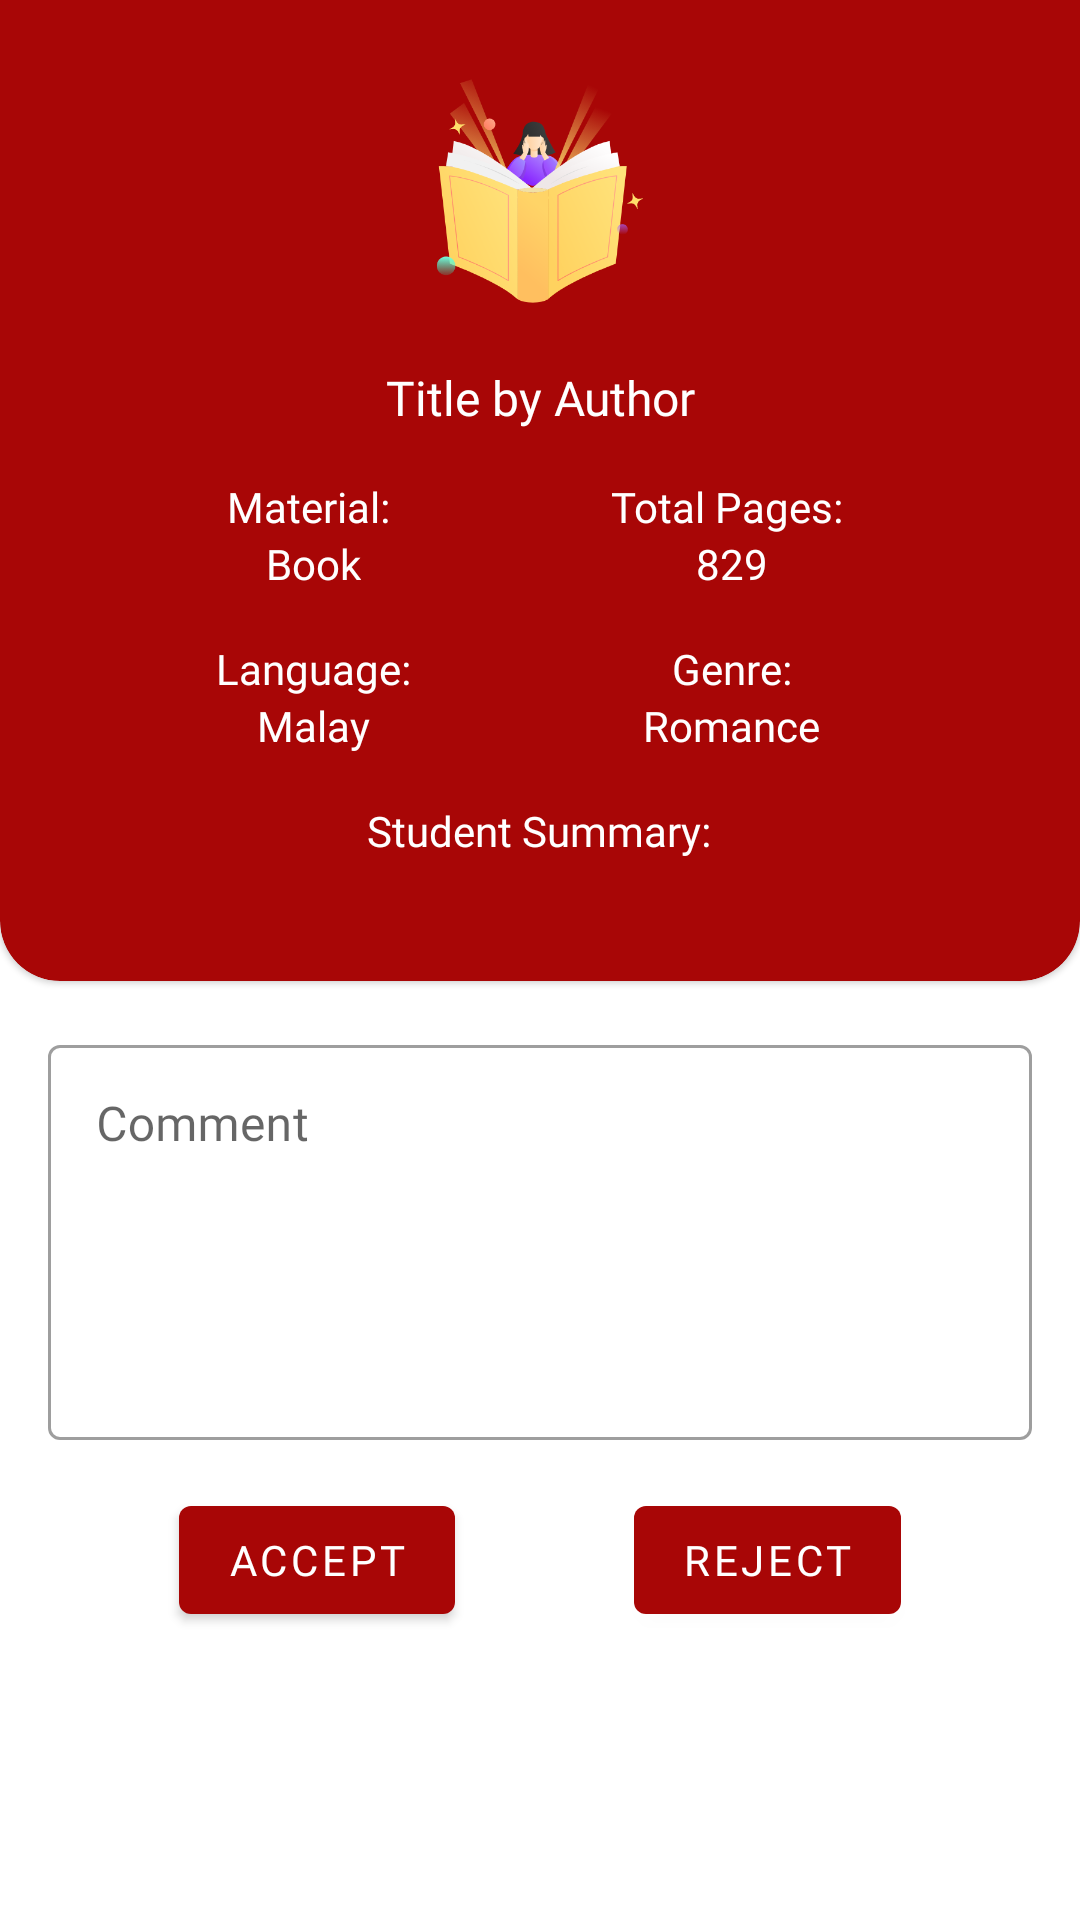

Screen size 1080x1920. Icon name, then its box in pixels as box(x1, y1, x2, y2):
books: box(437, 80, 643, 303)
